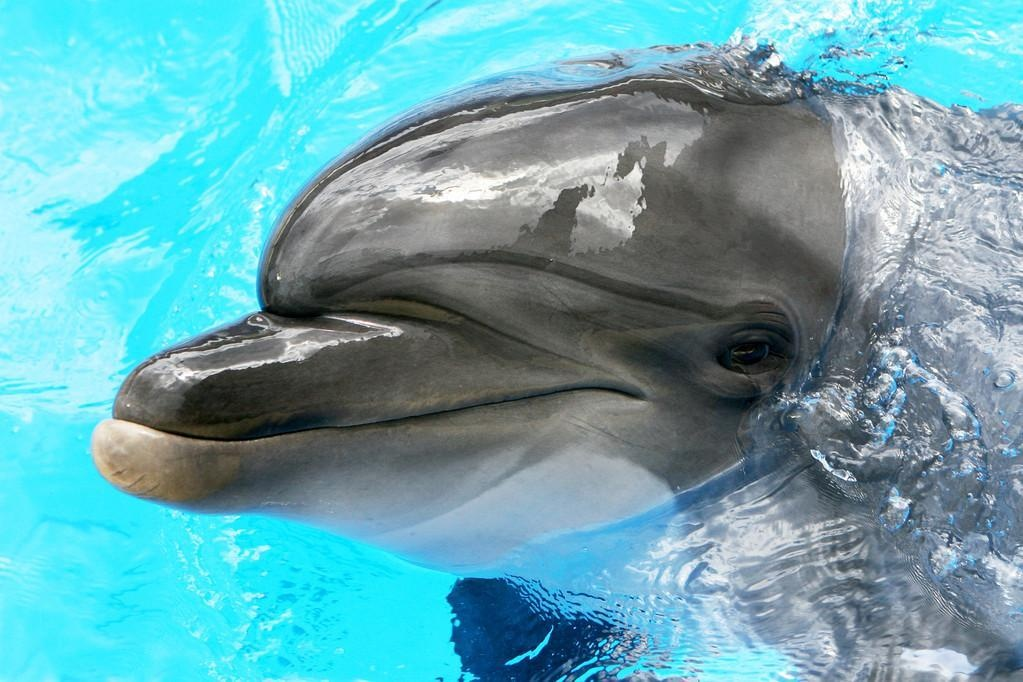fish: (83, 45, 1023, 563)
